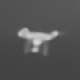plane: (16, 25, 64, 56)
